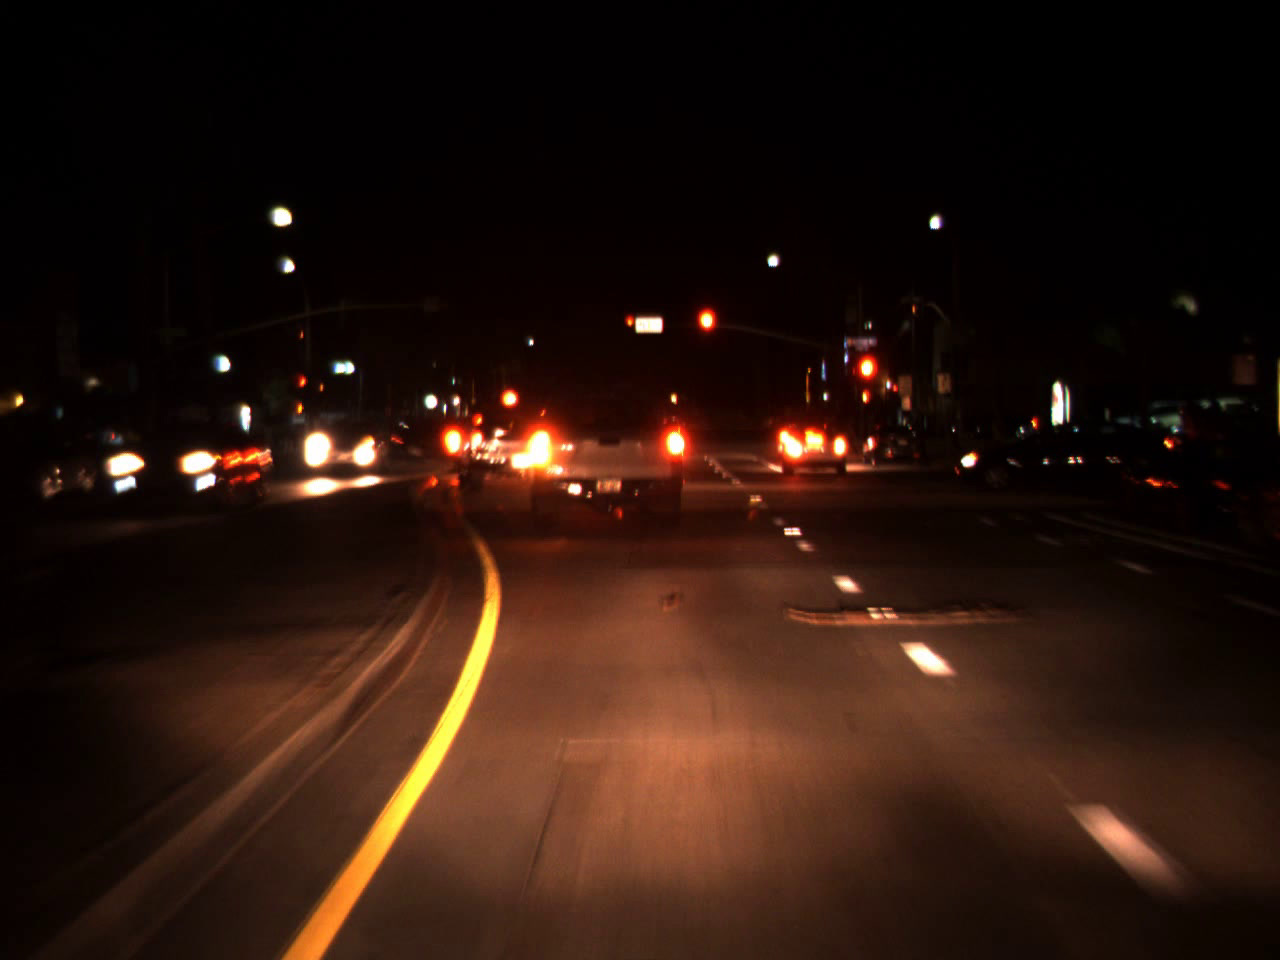stop: (853, 350, 881, 414), (695, 305, 719, 359), (298, 373, 307, 400), (625, 314, 635, 338)
